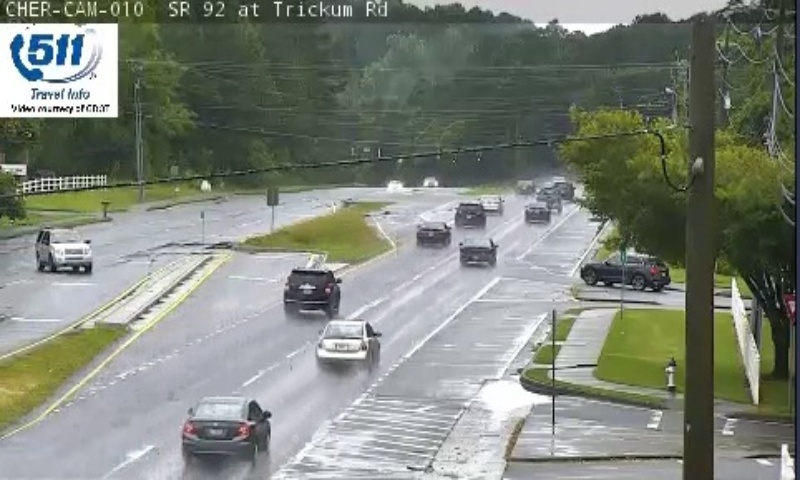car: (181, 396, 271, 454), (315, 321, 380, 362), (283, 268, 342, 308), (459, 238, 496, 263), (455, 201, 486, 228), (416, 221, 453, 243), (524, 202, 551, 221), (478, 193, 502, 211)
